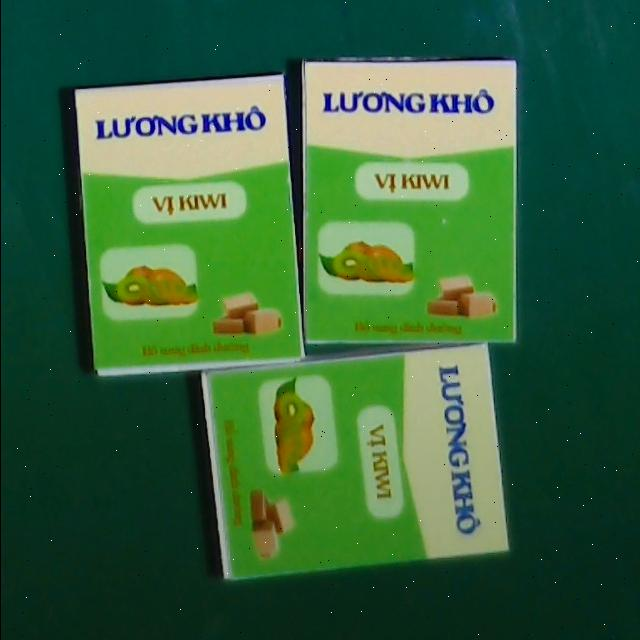kiwi: (201, 338, 508, 581), (72, 72, 302, 376), (303, 59, 516, 345)
